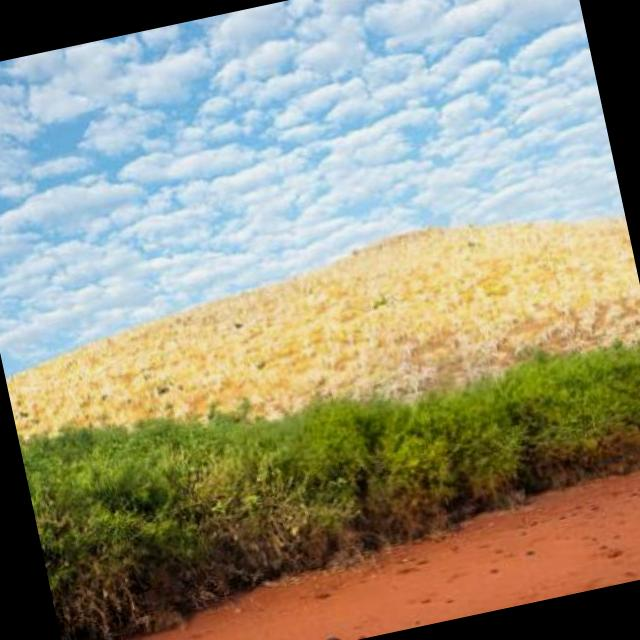altocumulus: (0, 0, 618, 319)
